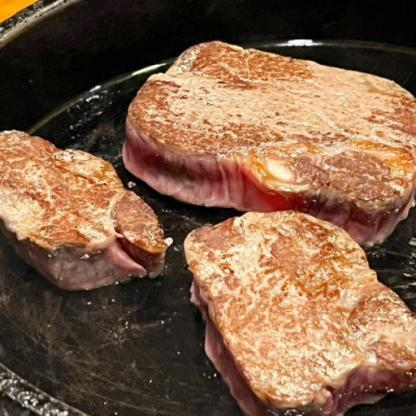Carne: (103, 47, 415, 205), (180, 210, 415, 416), (0, 118, 158, 292)
